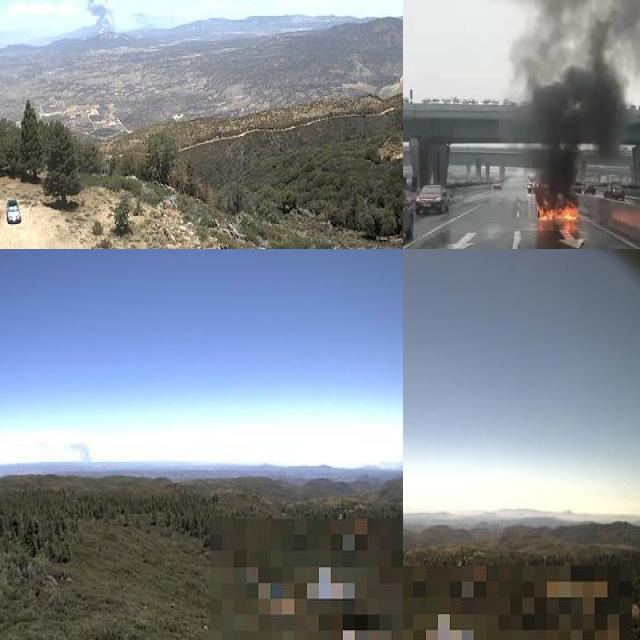fire: (536, 196, 580, 220)
smoke: (432, 0, 640, 193), (80, 0, 122, 42), (63, 437, 100, 471)
